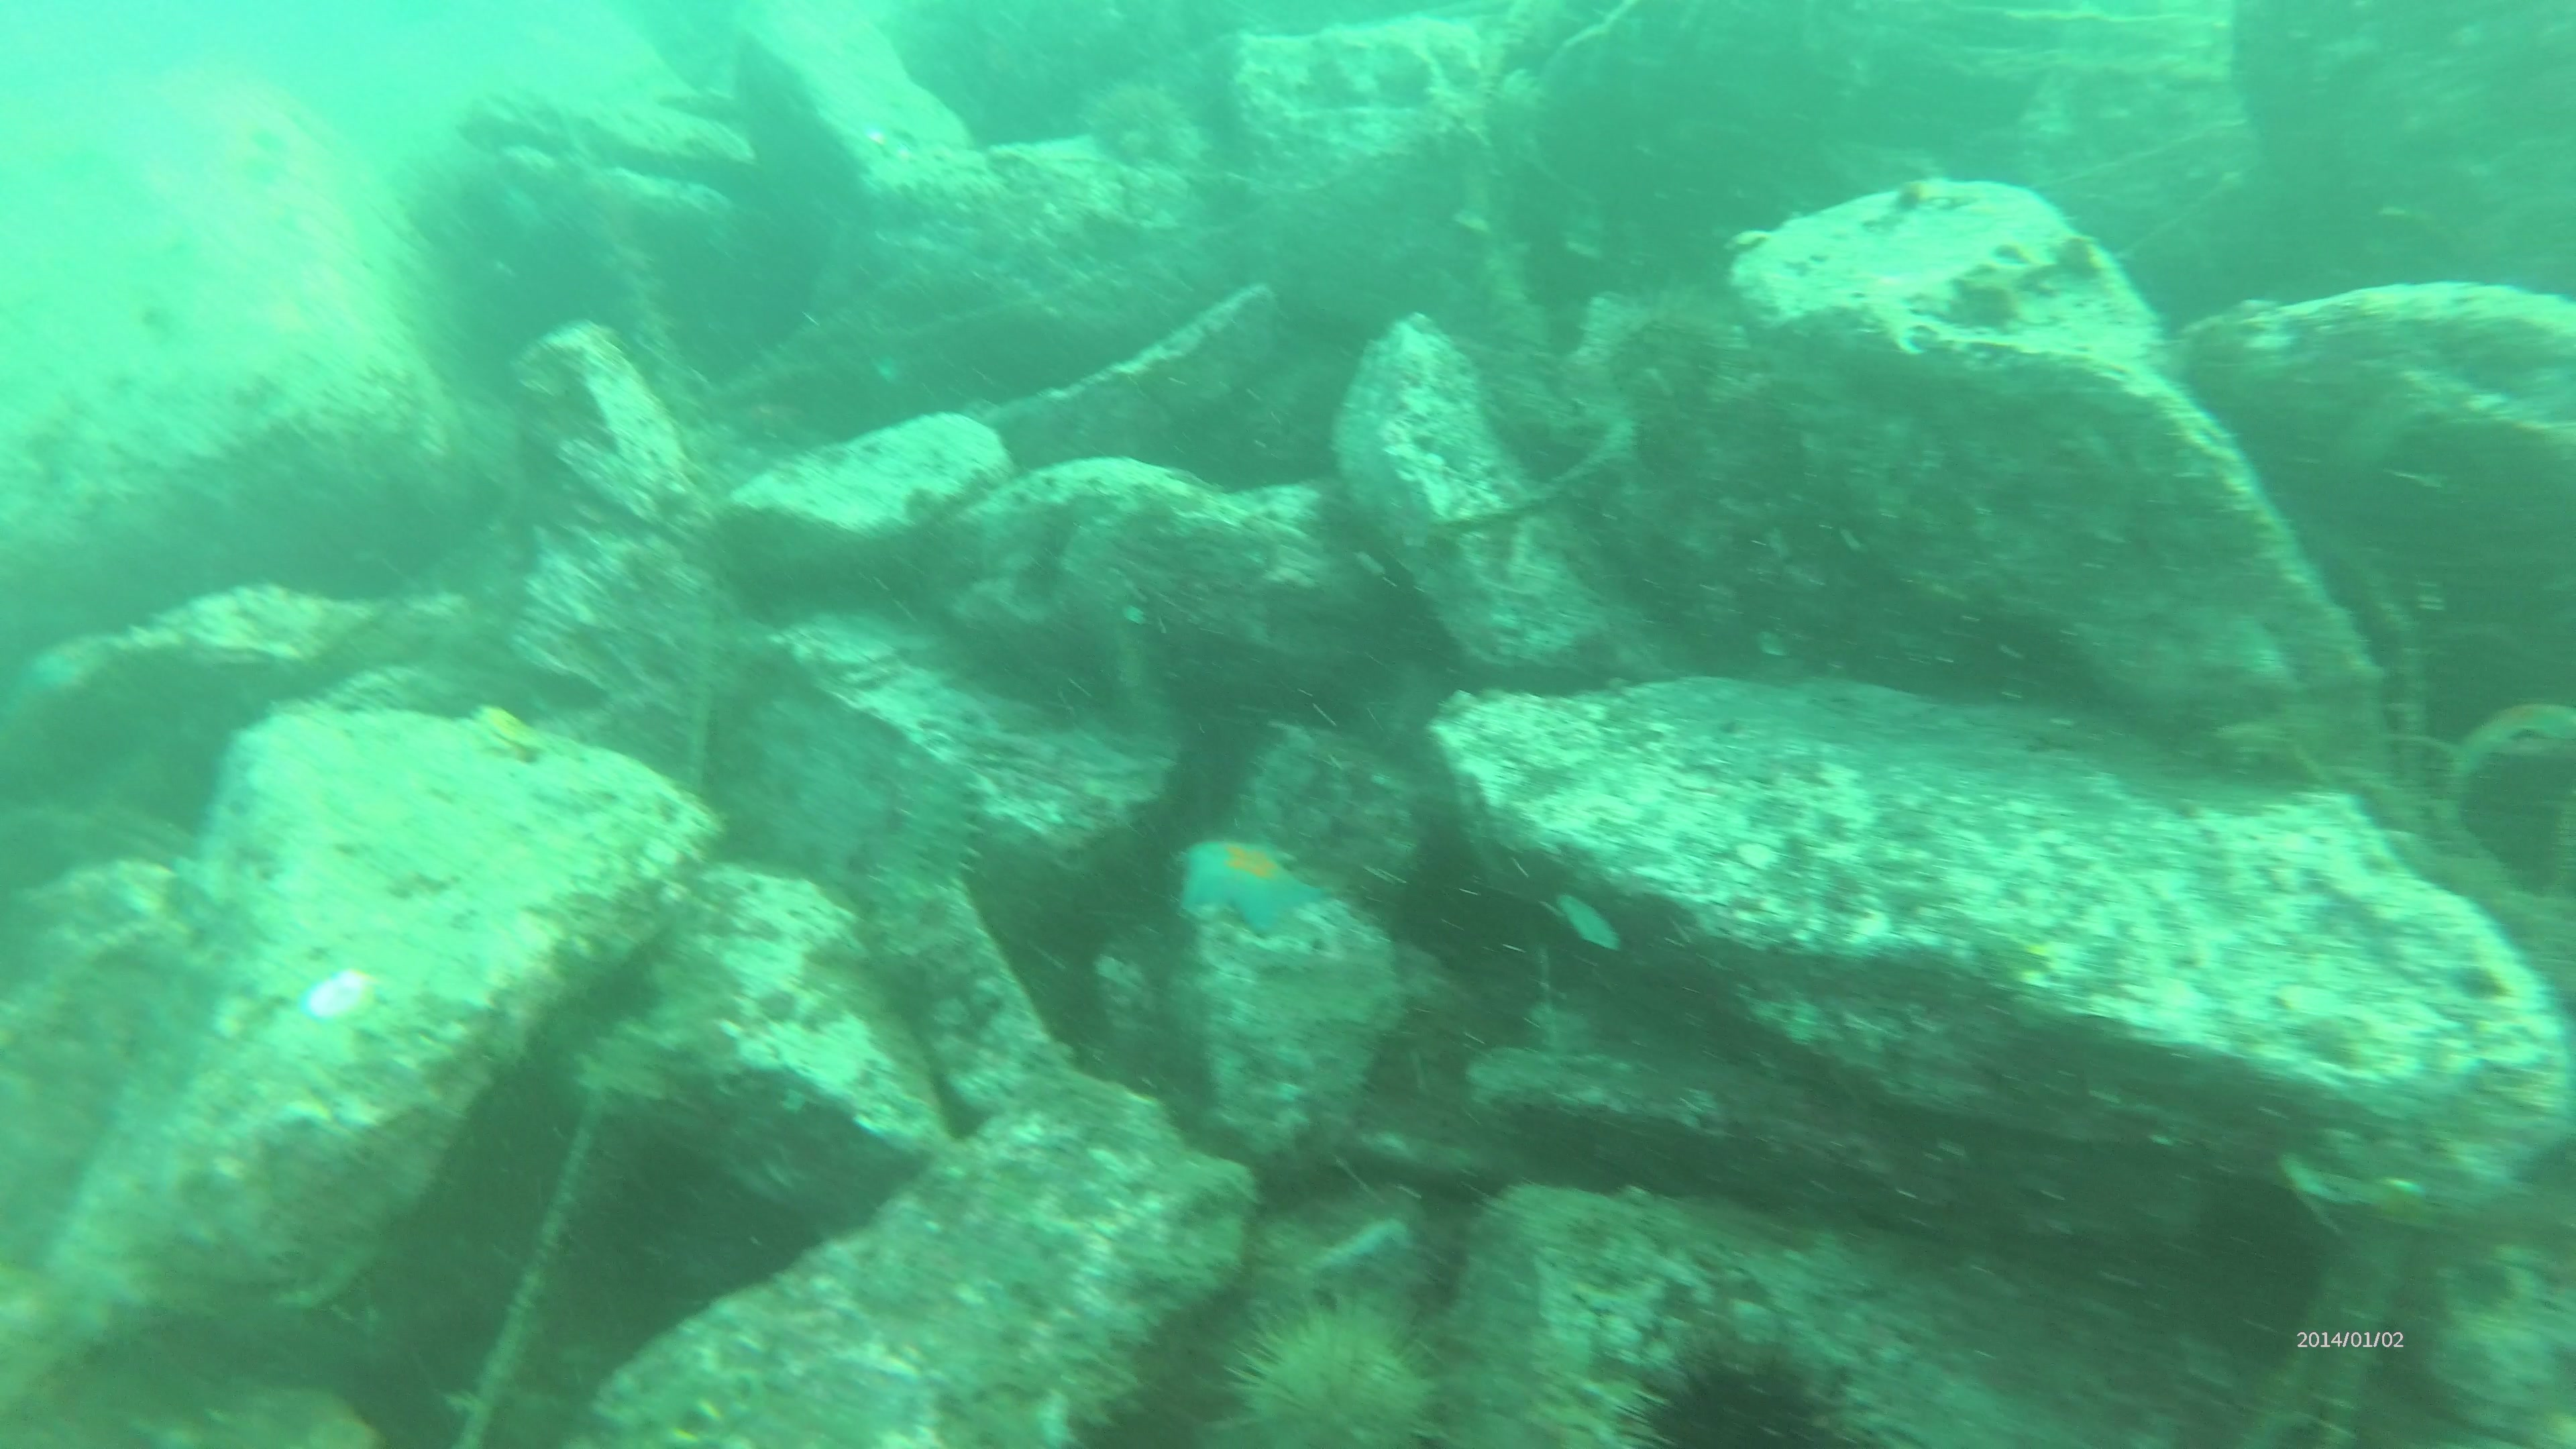echinus: (1203, 1295, 1476, 1449), (1629, 1329, 1888, 1449)
holothurian: (835, 752, 1001, 941)
scallop: (464, 702, 547, 764), (306, 962, 386, 1024)
starfish: (1177, 821, 1327, 938)
